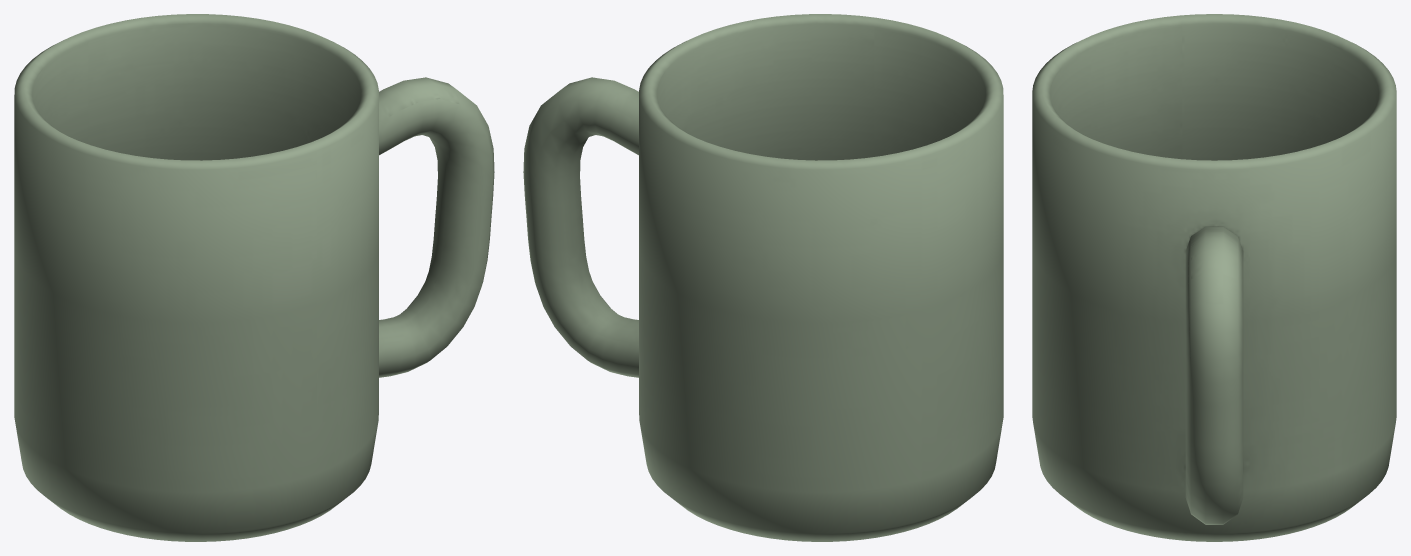
Rendered from sage.glb.
3 renders of one model, left to right at view 1: azimuth 30°, elevation 25°; view 2: azimuth 150°, elevation 25°; view 3: azimuth 270°, elevation 25°, orthographic.
Parts seen in each view (by area): view 1: ceramic_primary; view 2: ceramic_primary; view 3: ceramic_primary.
Part boxes in pixels (box(x1,y1,x2,y2)): ceramic_primary: box(14, 14, 494, 541); ceramic_primary: box(523, 14, 1003, 541); ceramic_primary: box(1032, 14, 1396, 541).
Size of the model in its own units: 0.1172 by 0.0964 by 0.082.
Materials: 1 (1 with a texture image).
